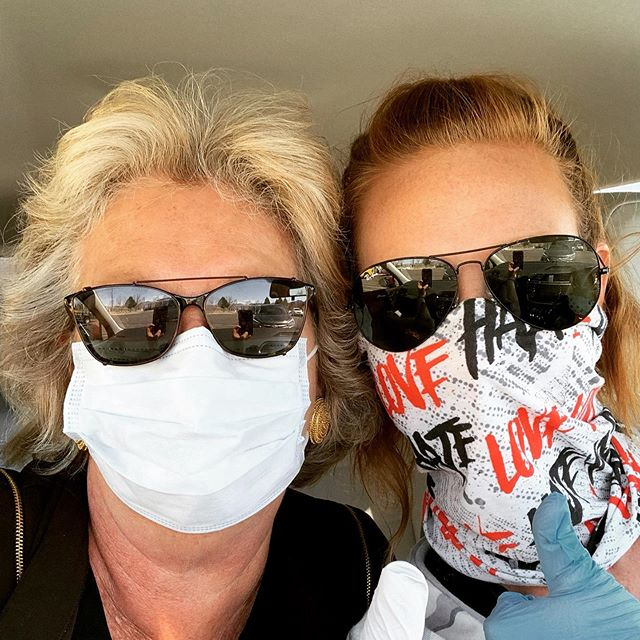homemade: (351, 317, 640, 586)
surgical: (58, 331, 321, 534)
